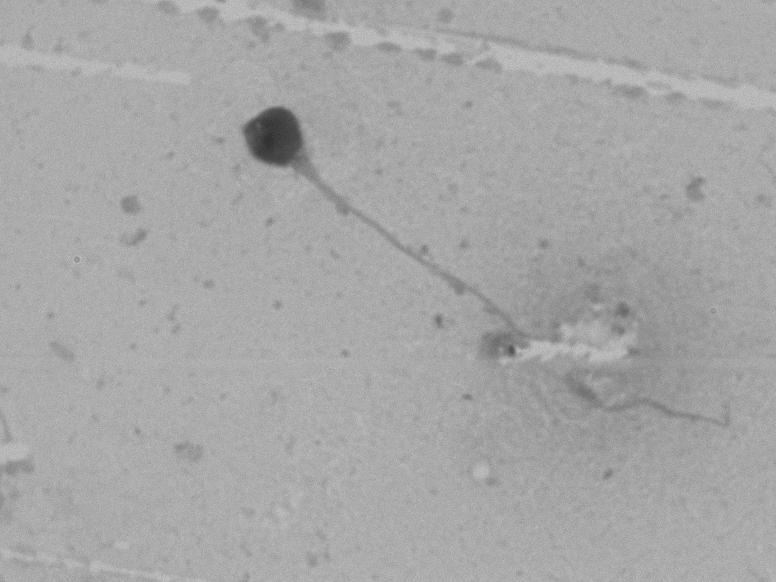Abnormal: (209, 91, 551, 409)
